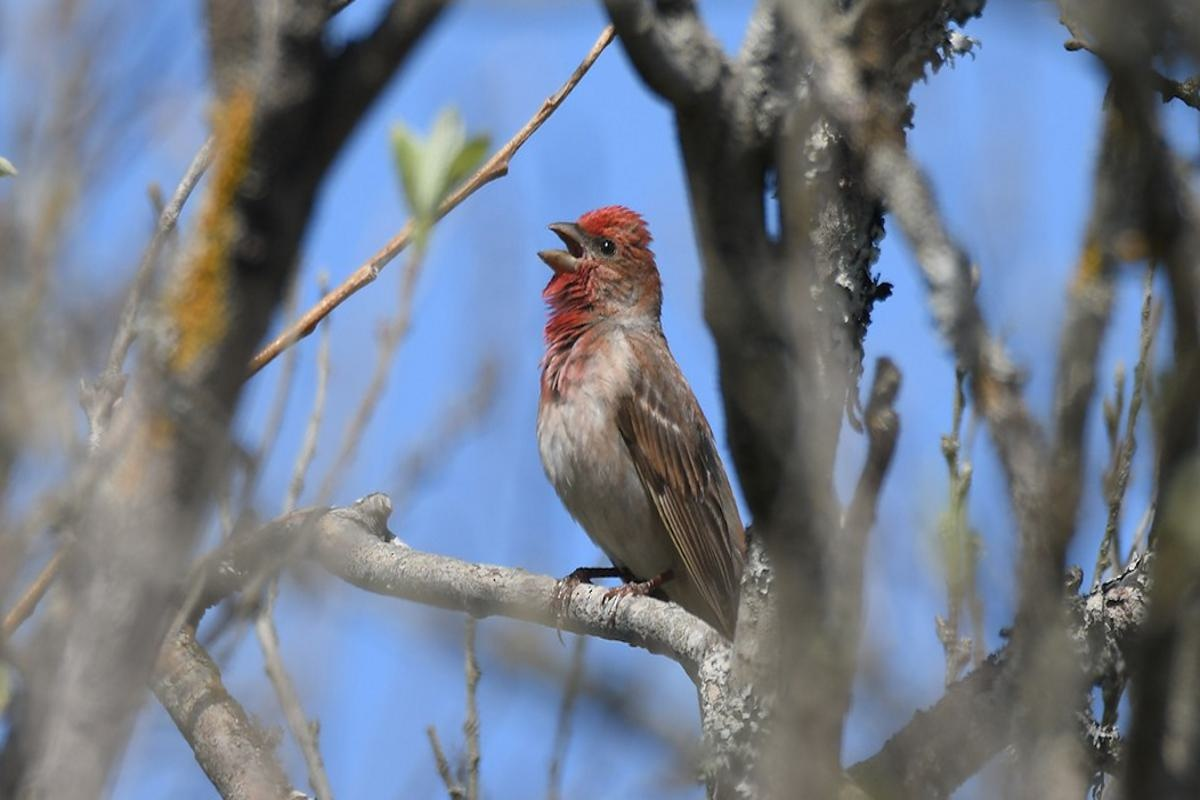rosefinch: (521, 180, 733, 665)
